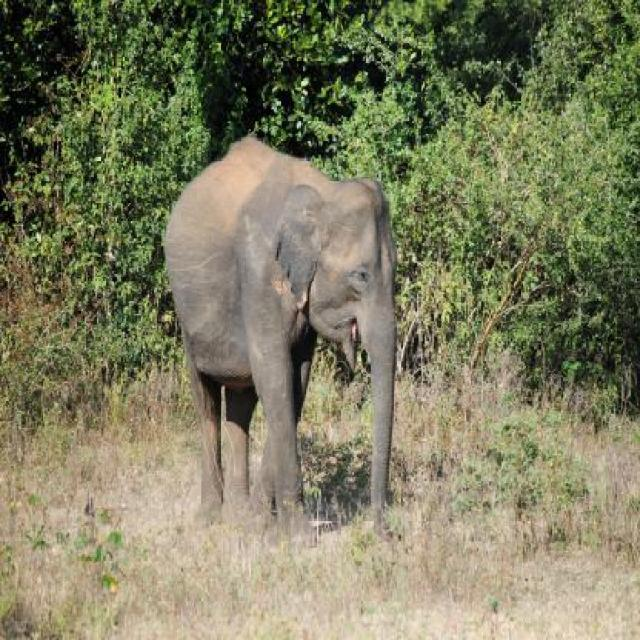Elephant: (160, 127, 400, 559)
